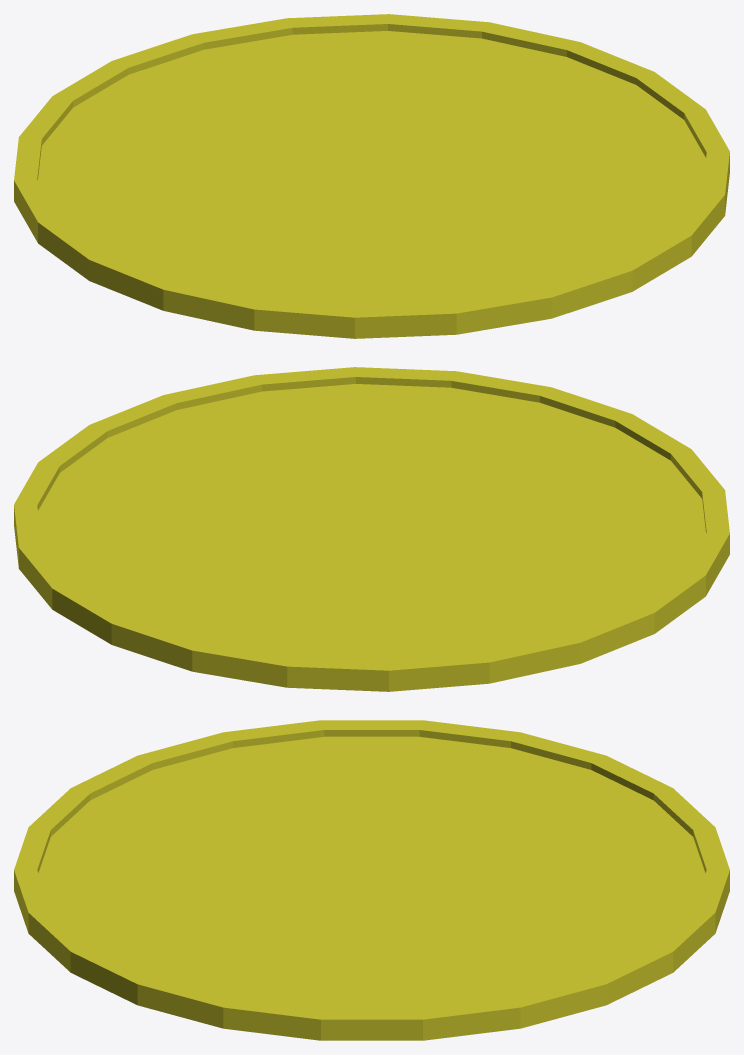
Rendered from goldcoin.fbx.
The picture shows the model from 3 angles, top to bottom: view 1: azimuth 30°, elevation 25°; view 2: azimuth 150°, elevation 25°; view 3: azimuth 270°, elevation 25°; orthographic projection.
Parts seen in each view (by area): view 1: Cylinder.002; view 2: Cylinder.002; view 3: Cylinder.002.
Boxes of the visible parts, x1=… form: Cylinder.002: x1=14, y1=14, x2=729, y2=338; Cylinder.002: x1=14, y1=367, x2=729, y2=691; Cylinder.002: x1=14, y1=720, x2=729, y2=1040.
Bounding box in the file's own units: 112 × 3.67 × 113.
